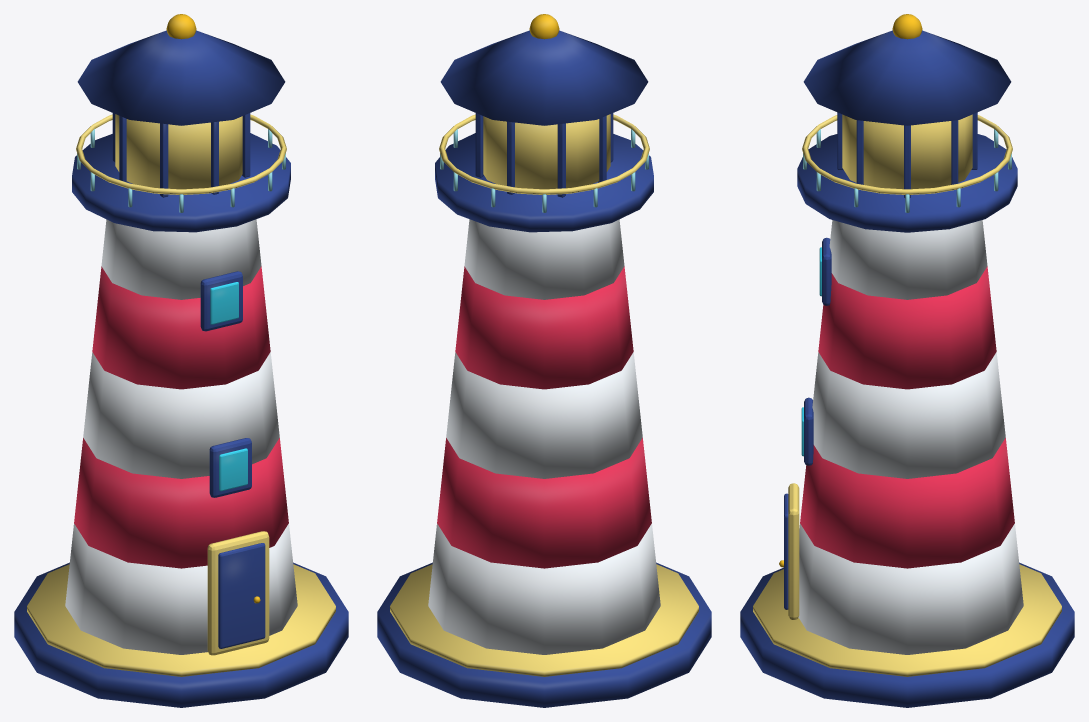
Rendered from Lighthouse.fbx.
3 views of the same model, side by side, from view 1: azimuth 30°, elevation 25°; view 2: azimuth 150°, elevation 25°; view 3: azimuth 270°, elevation 25° (orthographic).
Parts seen in each view (by area): view 1: Lighthouse; view 2: Lighthouse; view 3: Lighthouse.
Part boxes in pixels (<box>): Lighthouse: <box>14,14,348,707</box>; Lighthouse: <box>377,14,711,707</box>; Lighthouse: <box>740,14,1074,707</box>.
Bounding box in the file's own units: 10.6 × 21.78 × 10.6.
Materials: 1 (1 with a texture image).
